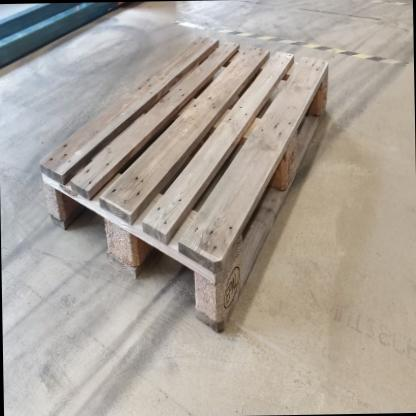BoxFace: (39, 31, 335, 337)
